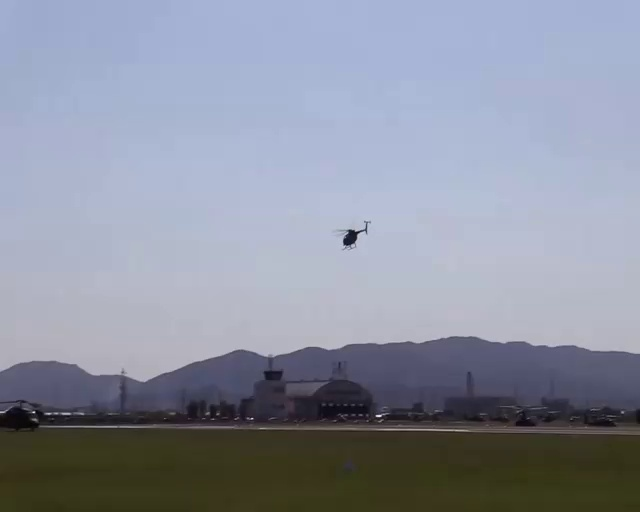HELICOPTER: (333, 219, 372, 250)
